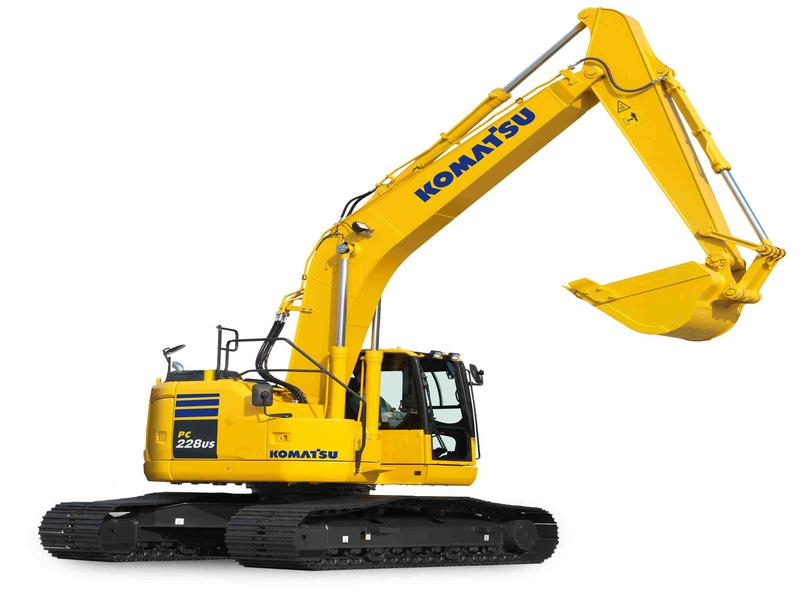shovel: (35, 2, 792, 583)
